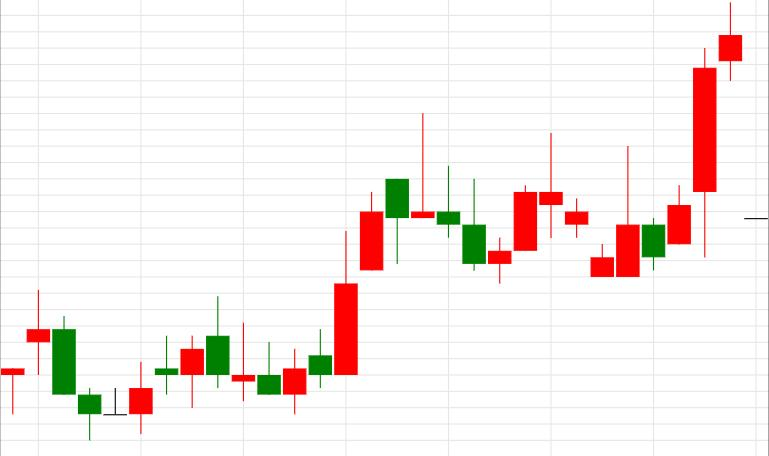hanging_man_fall: (284, 179, 409, 414)
